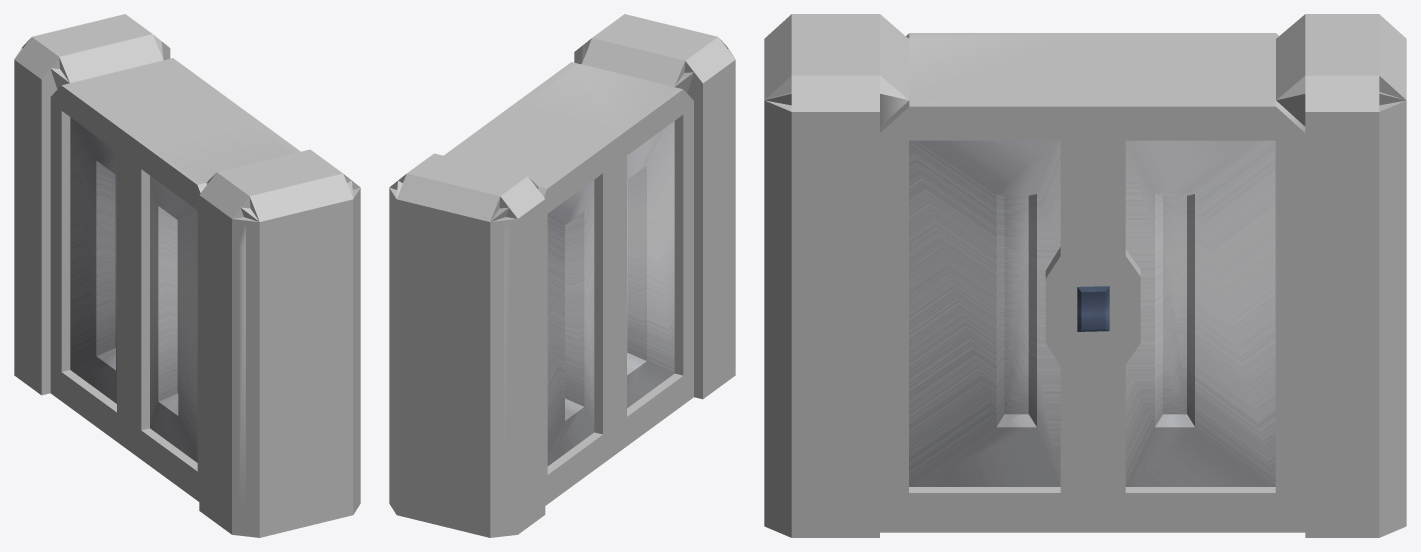
Rendered from MainGate.fbx.
3 views of the same model, side by side, from view 1: azimuth 30°, elevation 25°; view 2: azimuth 150°, elevation 25°; view 3: azimuth 270°, elevation 25° (orthographic). The views are drawn at different scales.
Visible parts, largest first — view 1: Gate, Wall1; view 2: Gate, Wall1; view 3: Gate, Wall1, Code.
Part boxes in pixels (x1,y1,x2,y2): Gate: (14,14,360,537); Wall1: (70,117,197,462); Gate: (389,14,735,537); Wall1: (547,121,674,465); Gate: (764,14,1406,537); Wall1: (909,140,1275,486); Code: (1077,286,1109,331).
Size of the model in its own units: 51.18 by 127 by 164.
